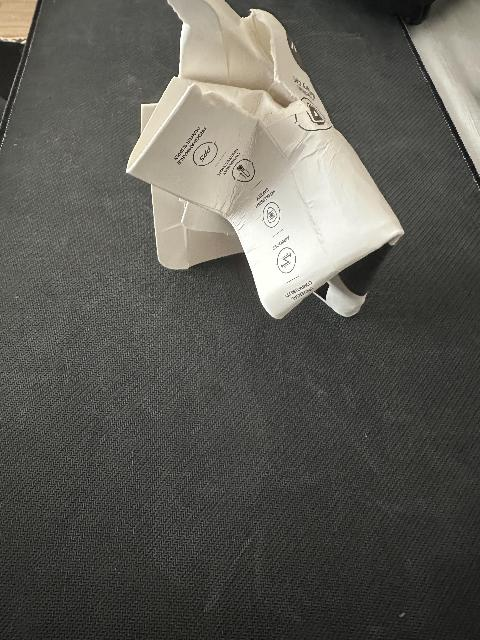Kagit: (122, 0, 403, 316)
